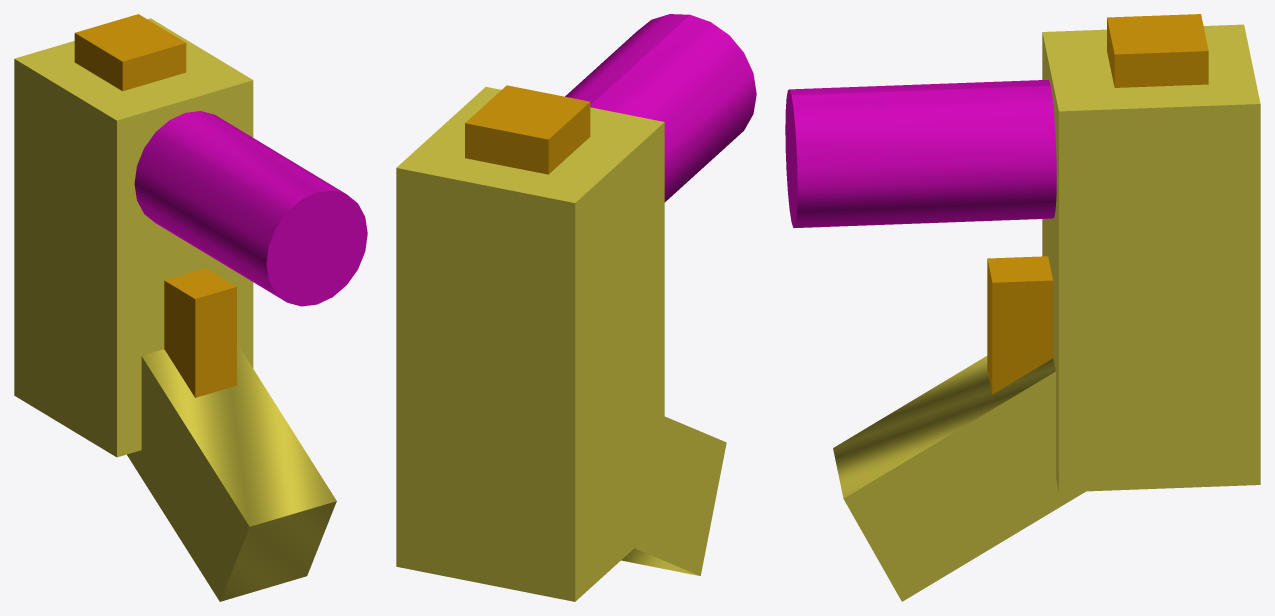
The model's file is Bubblerbak.fbx.
3 views of the same model, side by side, from view 1: azimuth 30°, elevation 25°; view 2: azimuth 150°, elevation 25°; view 3: azimuth 270°, elevation 25° (orthographic). The views are drawn at different scales.
Visible parts, largest first — view 1: Bubbler; view 2: Bubbler; view 3: Bubbler.
Boxes of the visible parts, bbox=[...] form: Bubbler: bbox=[14, 14, 367, 601]; Bubbler: bbox=[396, 14, 756, 601]; Bubbler: bbox=[785, 14, 1260, 601].
Size of the model in its own units: 10.48 by 29.98 by 24.24.
